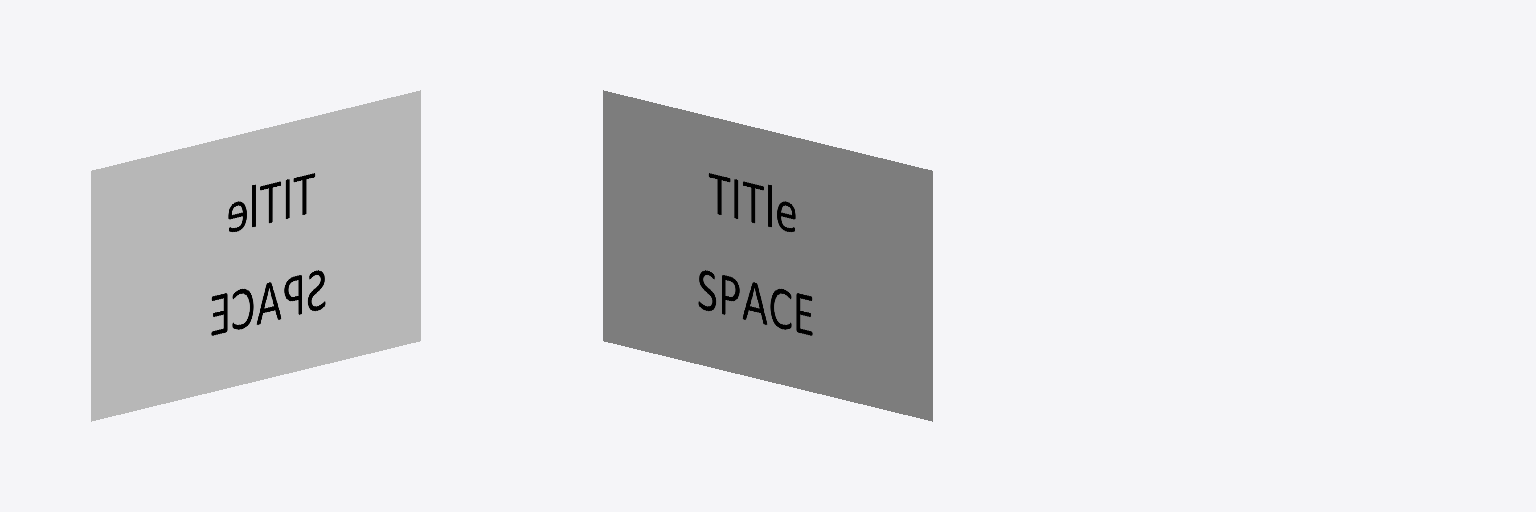
3 views of the same model, side by side, from view 1: azimuth 30°, elevation 25°; view 2: azimuth 150°, elevation 25°; view 3: azimuth 270°, elevation 25° (orthographic).
Visible parts, largest first — view 1: 平面; view 2: 平面; view 3: none.
Part boxes in pixels (bbox=[...]): 平面: bbox=[91, 90, 420, 421]; 平面: bbox=[603, 90, 932, 421].
Bounding box in the file's own units: 43.48 × 31.58 × 0.
Materials: 1 (1 with a texture image).